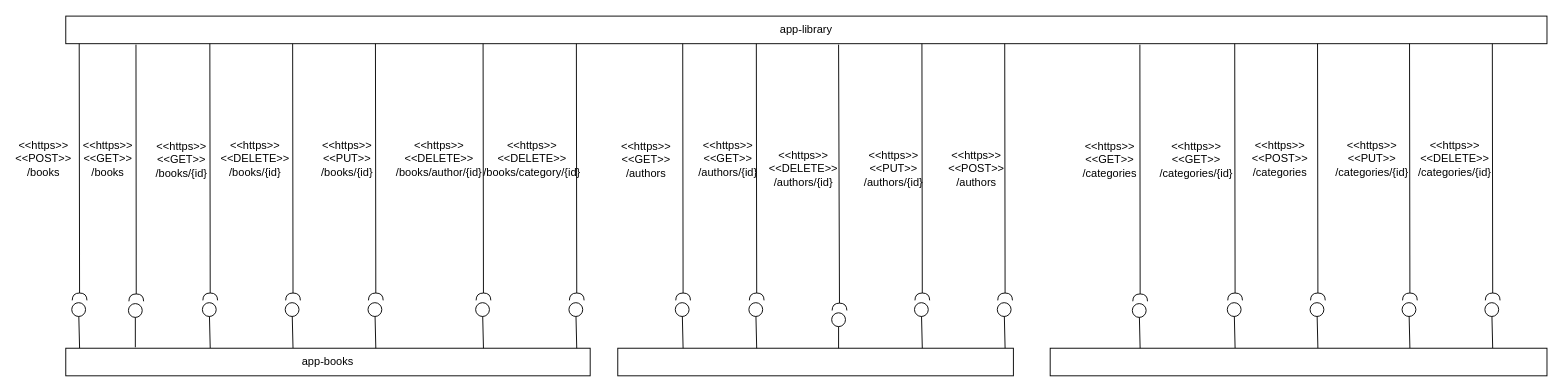
Some shapes in this 1563 by 392 pixel diagram are drawn without their labels. Each missing label, with the centre of its shape:
"app-author" goes at point (815, 361).
"app-categories" goes at point (1298, 361).
